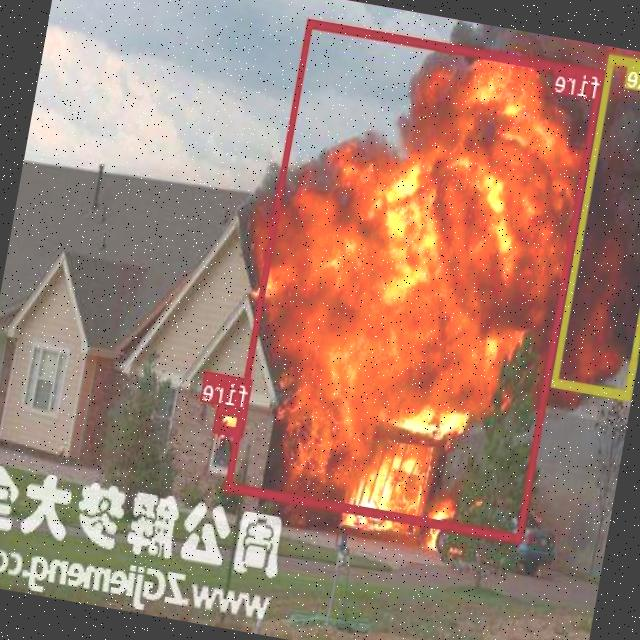fire: (225, 18, 605, 542), (214, 403, 248, 436)
smoke: (552, 52, 640, 397)
